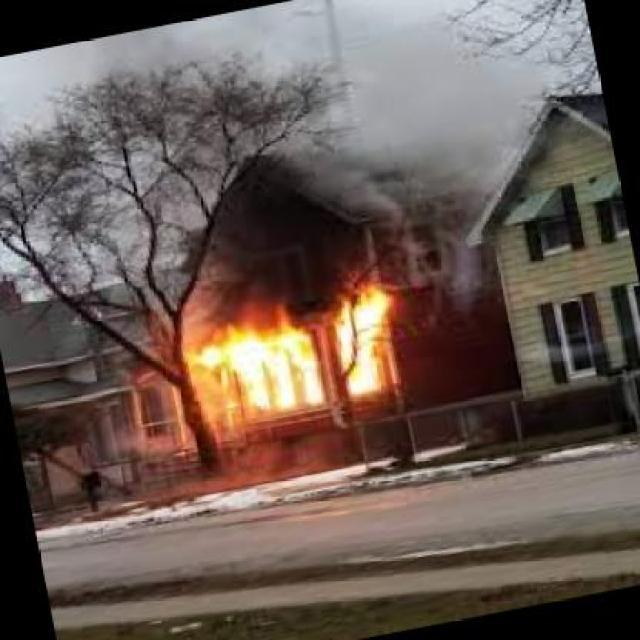Fire: (189, 286, 433, 410)
Smoke: (7, 52, 534, 297)
